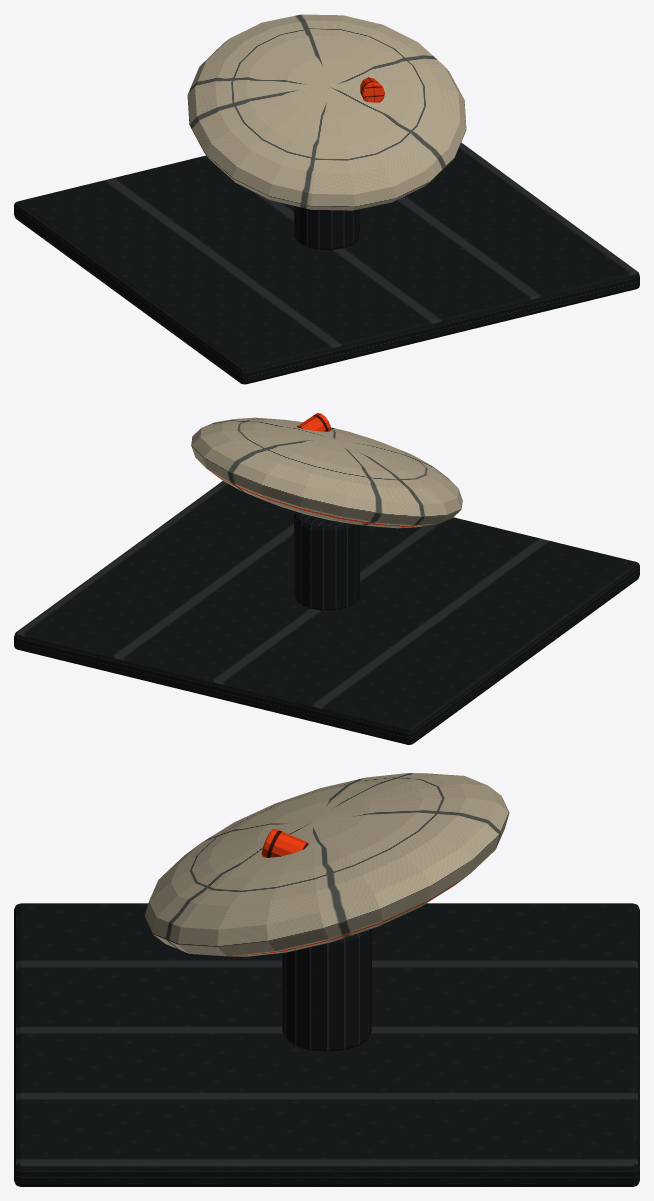
File: roof_science_dish.glb
The picture shows the model from 3 angles, top to bottom: view 1: azimuth 30°, elevation 25°; view 2: azimuth 150°, elevation 25°; view 3: azimuth 270°, elevation 25°; orthographic projection. The views are drawn at different scales.
Visible parts, largest first — view 1: Removable roof mounting plate.001, Telemetry dish, Pedestal; view 2: Removable roof mounting plate.001, Telemetry dish, Pedestal; view 3: Removable roof mounting plate.001, Telemetry dish, Pedestal, Receiver.
Part boxes in pixels (bbox=[...]): Removable roof mounting plate.001: bbox=[14, 142, 639, 384]; Telemetry dish: bbox=[187, 14, 466, 210]; Pedestal: bbox=[294, 206, 359, 249]; Removable roof mounting plate.001: bbox=[14, 481, 639, 744]; Telemetry dish: bbox=[191, 417, 462, 528]; Pedestal: bbox=[294, 511, 359, 610]; Removable roof mounting plate.001: bbox=[14, 903, 639, 1186]; Telemetry dish: bbox=[144, 773, 509, 956]; Pedestal: bbox=[282, 928, 371, 1051]; Receiver: bbox=[261, 829, 308, 857].
Size of the model in its own units: 2.36 by 1.08 by 2.36.
3 materials, 3 textured.
